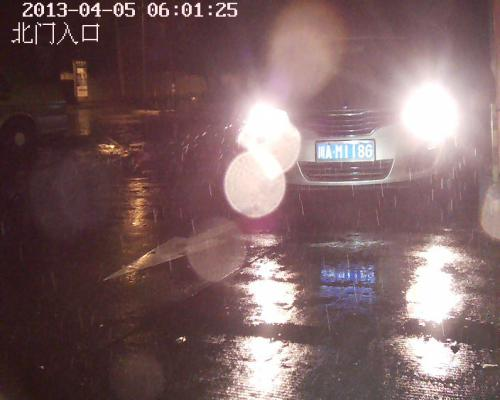Carplate: (315, 138, 378, 164)
